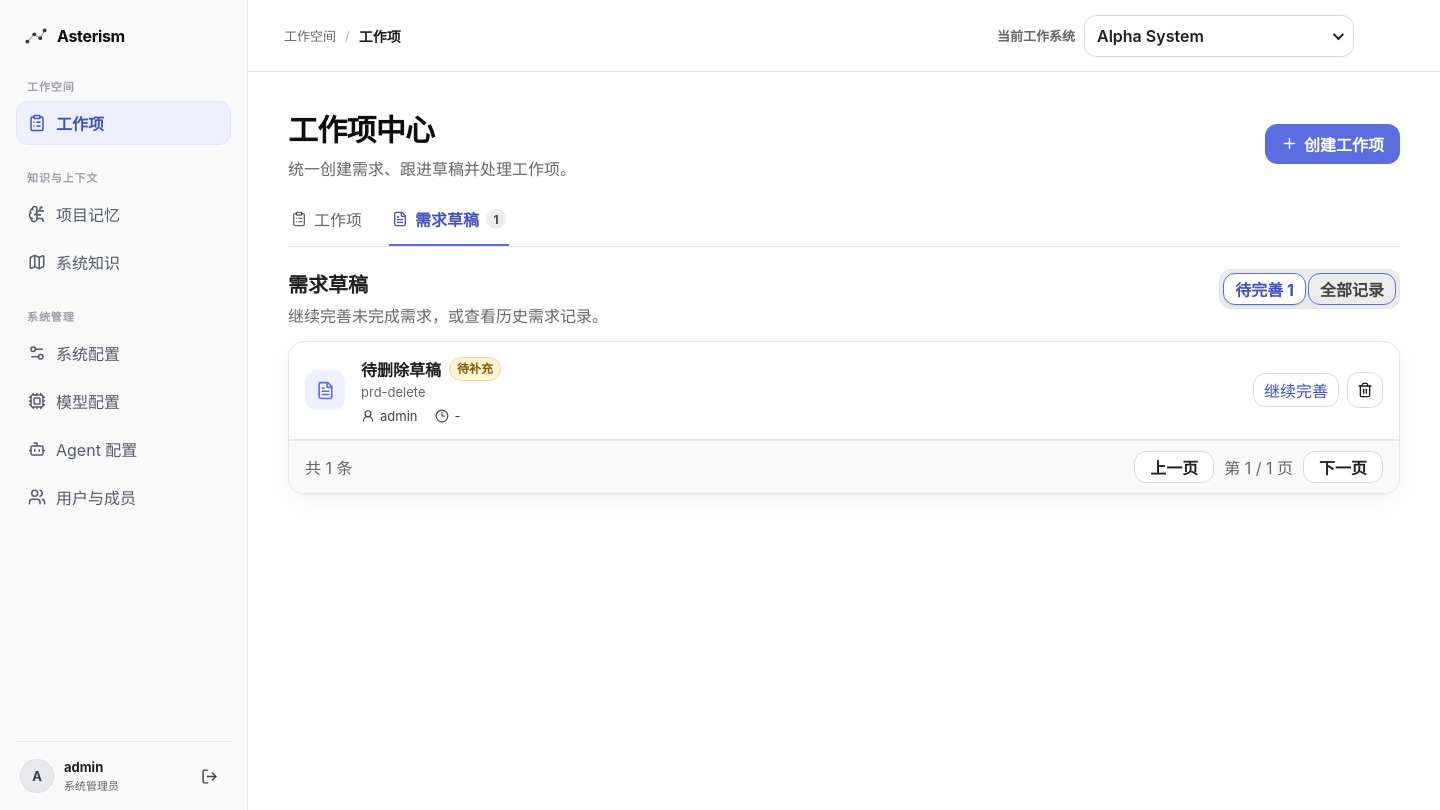
Test: draft deletion requires confirmation and sends DELETE
Click the button named "删除草稿 待删除草稿": [1365, 390] box [1347,372,1383,408]
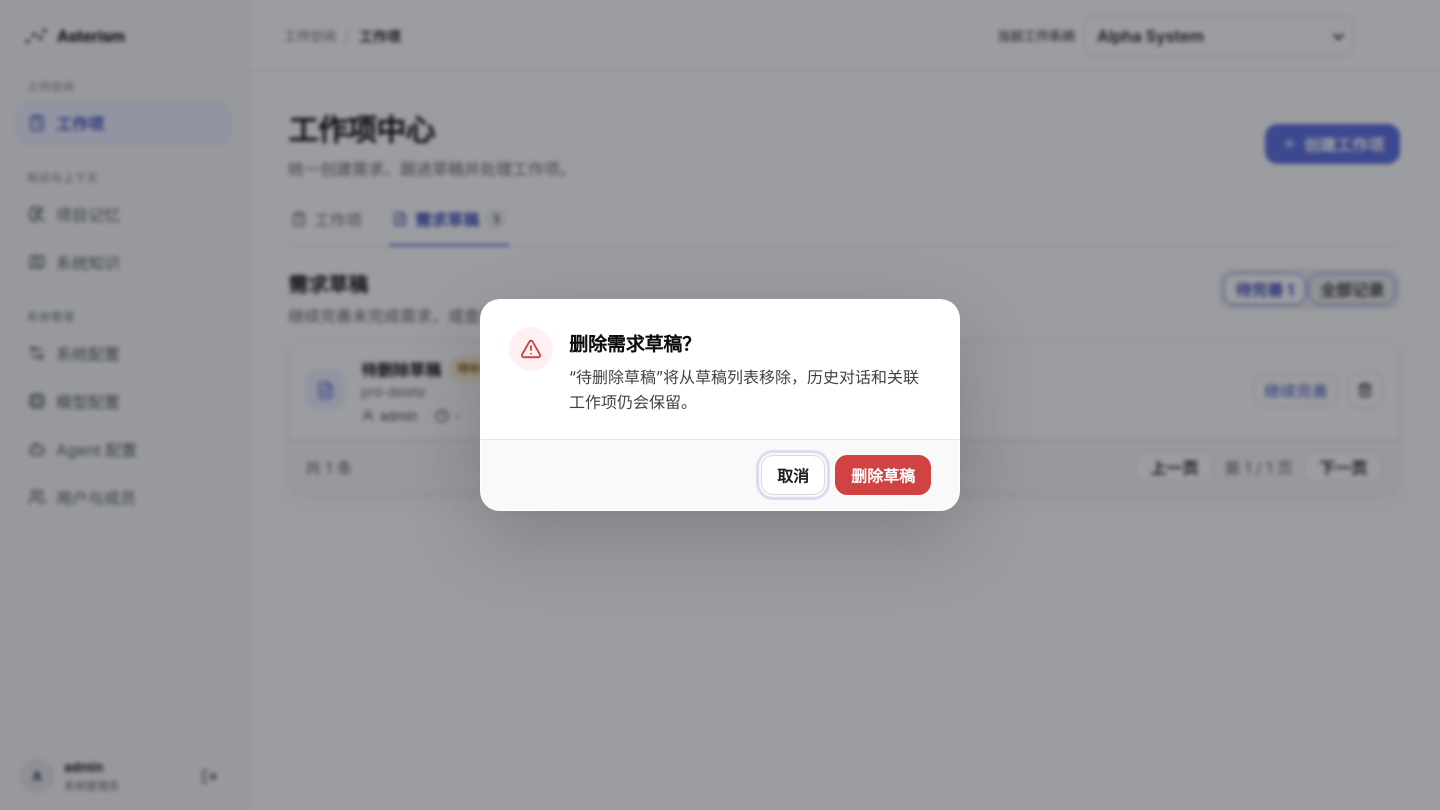
Click the button "删除草稿": [883, 475] box [835,455,931,495]
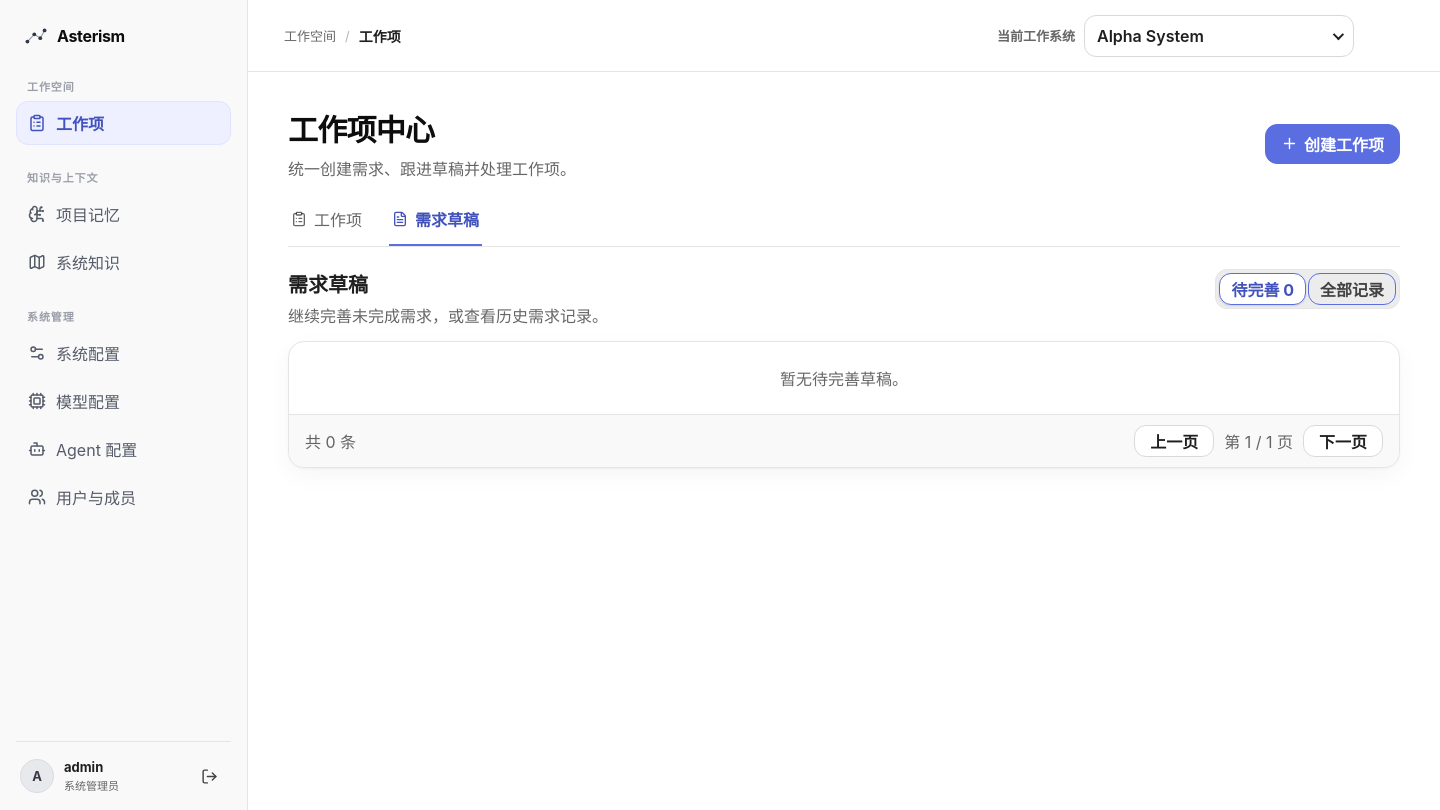
Expected: the text "暂无待完善草稿。" is shown, [780,369,908,389]
